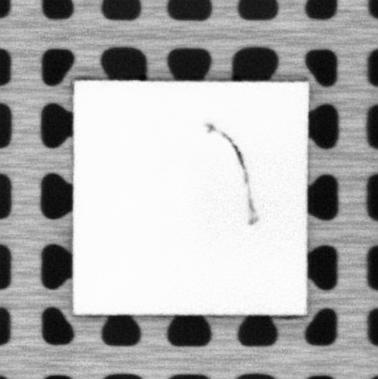DIE_INK: (203, 122, 260, 225)
